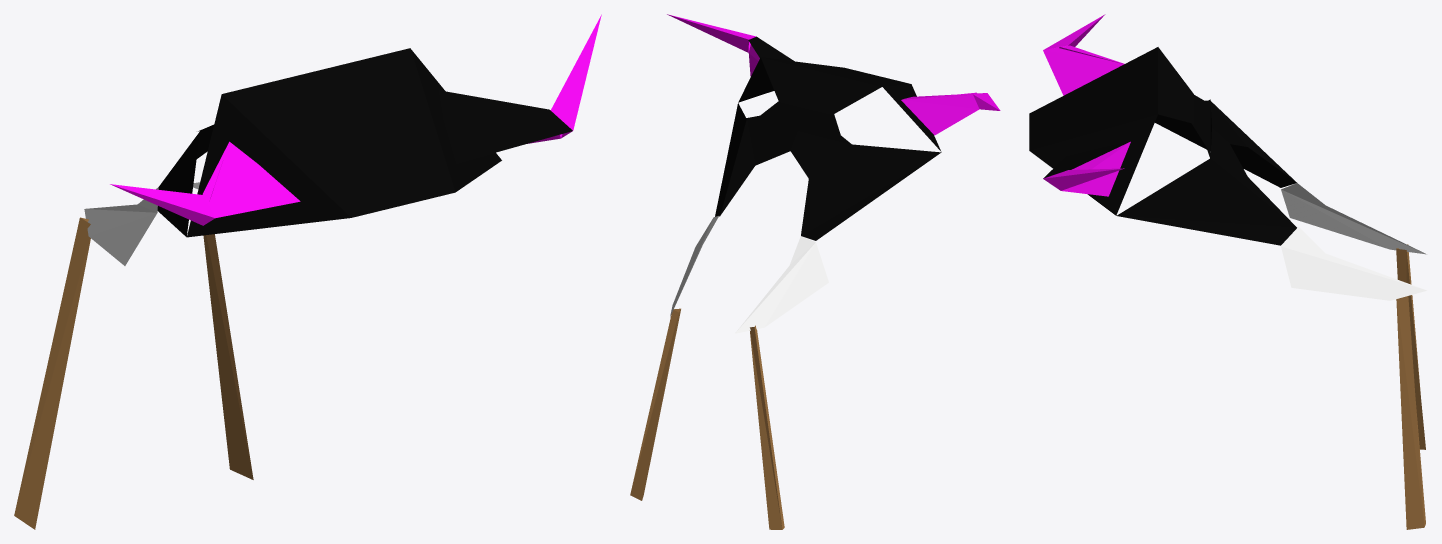
The model's file is hornedskull.obj.
3 views of the same model, side by side, from view 1: azimuth 30°, elevation 25°; view 2: azimuth 150°, elevation 25°; view 3: azimuth 270°, elevation 25° (orthographic). The views are drawn at different scales.
Parts seen in each view (by area): view 1: hornedskull_back, hornedskull_front; view 2: hornedskull_front, hornedskull_back; view 3: hornedskull_back, hornedskull_front.
Boxes of the visible parts, x1,y1,x2,y2 form: hornedskull_back: (14,48,562,529); hornedskull_front: (80,14,601,237); hornedskull_front: (630,15,999,529); hornedskull_back: (642,14,1000,529); hornedskull_back: (1029,15,1426,529); hornedskull_front: (1043,15,1425,526).
Size of the model in its own units: 2.87 by 3.08 by 2.66.
